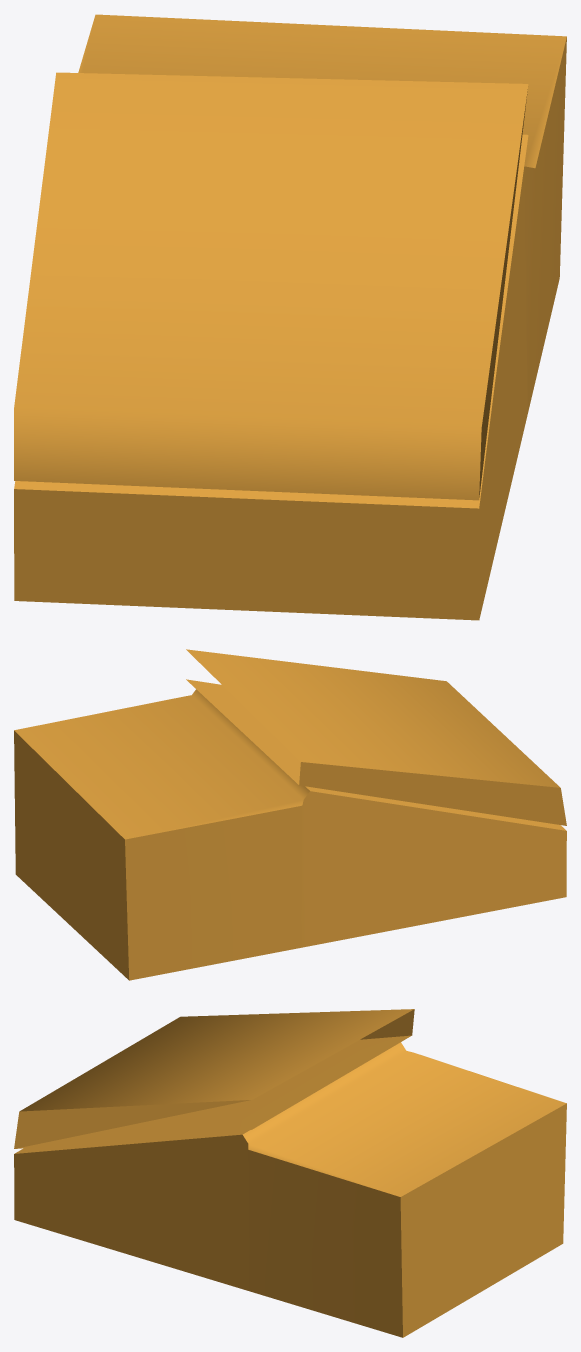
Rendered from pedal_material.007_0_lev1.glb.
3 views of the same model, one above another, from view 1: azimuth 30°, elevation 25°; view 2: azimuth 150°, elevation 25°; view 3: azimuth 270°, elevation 25° (orthographic). The views are drawn at different scales.
Visible parts, largest first — view 1: pedal_material.007_0_lev1; view 2: pedal_material.007_0_lev1; view 3: pedal_material.007_0_lev1.
Part boxes in pixels (left/top/right/bottom): pedal_material.007_0_lev1: left=14, top=14, right=566, bottom=620; pedal_material.007_0_lev1: left=14, top=649, right=566, bottom=980; pedal_material.007_0_lev1: left=14, top=1009, right=566, bottom=1337.
Bounding box in the file's own units: 10.33 × 4.33 × 11.29.
